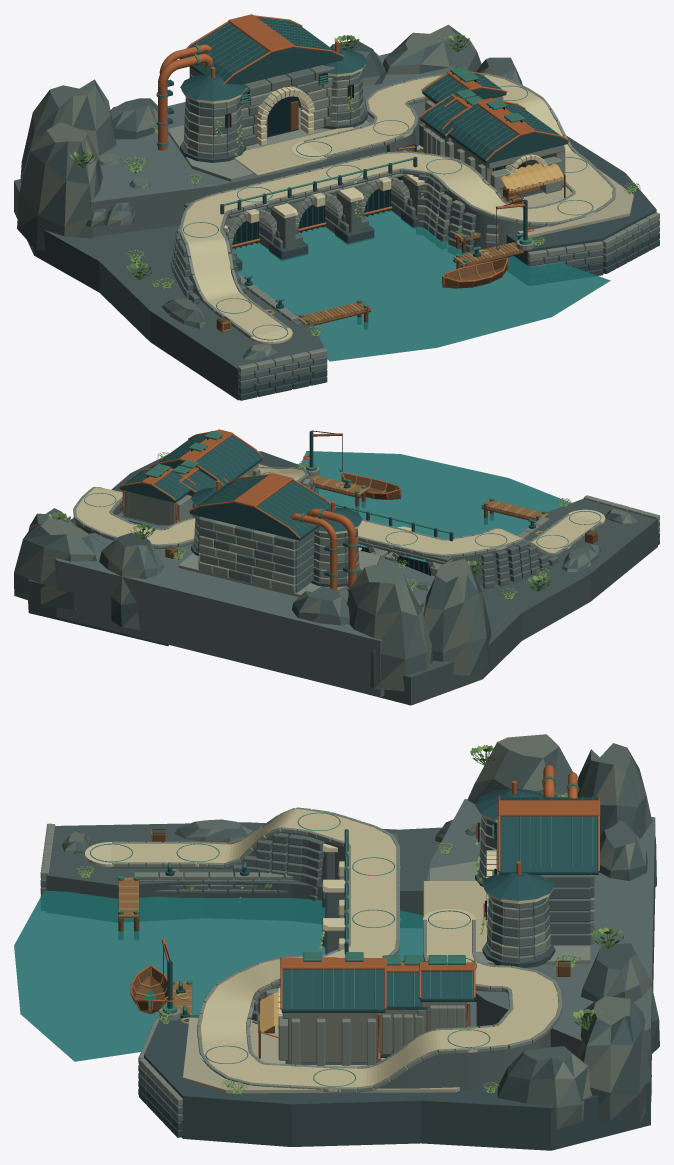
File: sturmbastion.glb
3 renders of one model, top to bottom at view 1: azimuth 30°, elevation 25°; view 2: azimuth 150°, elevation 25°; view 3: azimuth 270°, elevation 25°, orthographic. The views are drawn at different scales.
Parts seen in each view (by area): view 1: 01_Masonry • static batch, 07_HarbourWater • static batch, 02_Limestone • static batch, 03_PaintedIron • static batch, 04_Copper • static batch, 05_Timber • static batch, 06_Botanical • static batch; view 2: 01_Masonry • static batch, 07_HarbourWater • static batch, 03_PaintedIron • static batch, 04_Copper • static batch, 02_Limestone • static batch, 05_Timber • static batch, 06_Botanical • static batch; view 3: 01_Masonry • static batch, 02_Limestone • static batch, 07_HarbourWater • static batch, 03_PaintedIron • static batch, 04_Copper • static batch, 05_Timber • static batch, 06_Botanical • static batch.
Boxes of the visible parts, box(x1,y1,x2,y2) form: 01_Masonry • static batch: box(14, 24, 659, 400); 07_HarbourWater • static batch: box(232, 201, 610, 361); 02_Limestone • static batch: box(178, 64, 633, 343); 03_PaintedIron • static batch: box(167, 17, 568, 322); 04_Copper • static batch: box(156, 14, 593, 340); 05_Timber • static batch: box(216, 100, 565, 332); 06_Botanical • static batch: box(69, 34, 640, 336); 01_Masonry • static batch: box(14, 451, 659, 705); 07_HarbourWater • static batch: box(300, 451, 570, 575); 03_PaintedIron • static batch: box(120, 430, 596, 576); 04_Copper • static batch: box(84, 429, 601, 594); 02_Limestone • static batch: box(76, 464, 605, 554); 05_Timber • static batch: box(165, 434, 598, 558); 06_Botanical • static batch: box(45, 452, 571, 608); 01_Masonry • static batch: box(40, 734, 659, 1150); 02_Limestone • static batch: box(85, 808, 558, 1093); 07_HarbourWater • static batch: box(14, 890, 423, 1061); 03_PaintedIron • static batch: box(152, 789, 598, 1018); 04_Copper • static batch: box(90, 765, 600, 1086); 05_Timber • static batch: box(118, 829, 570, 1058); 06_Botanical • static batch: box(75, 745, 625, 1094).
Bounding box in the file's own units: 31.83 × 9.71 × 29.82.
